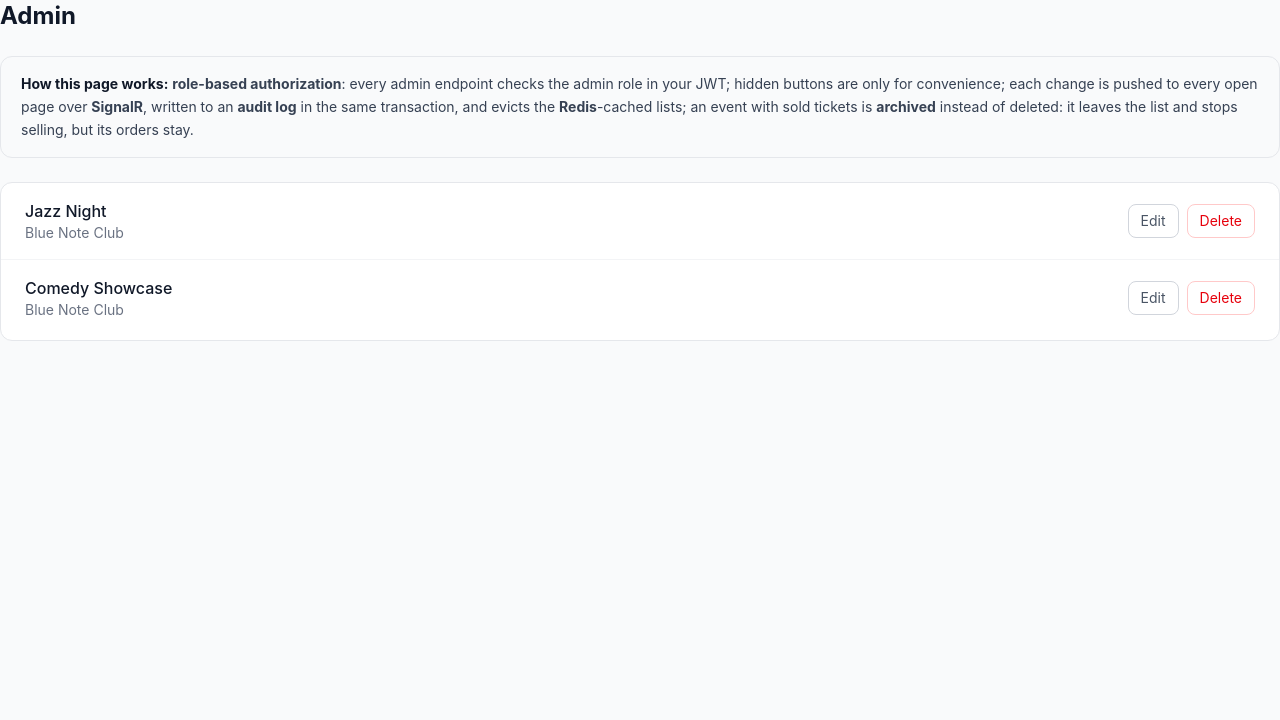
Test case: AdminPage › asks for confirmation before deleting
Click the button with aria-label "Delete Comedy Showcase": x=1221, y=298 1187,281 -> 1255,315
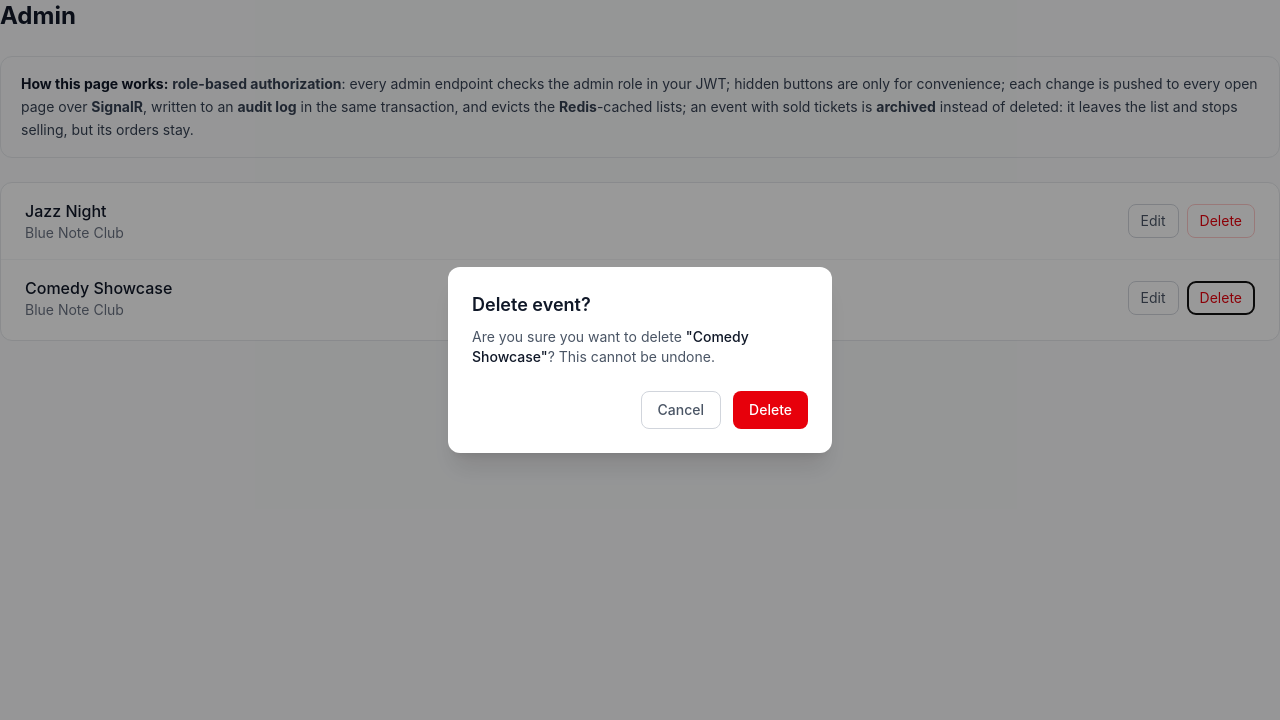
Result: the heading "Delete event?" is shown at 472,294 -> 591,315
Result: the dialog shows "\"Comedy Showcase\""
